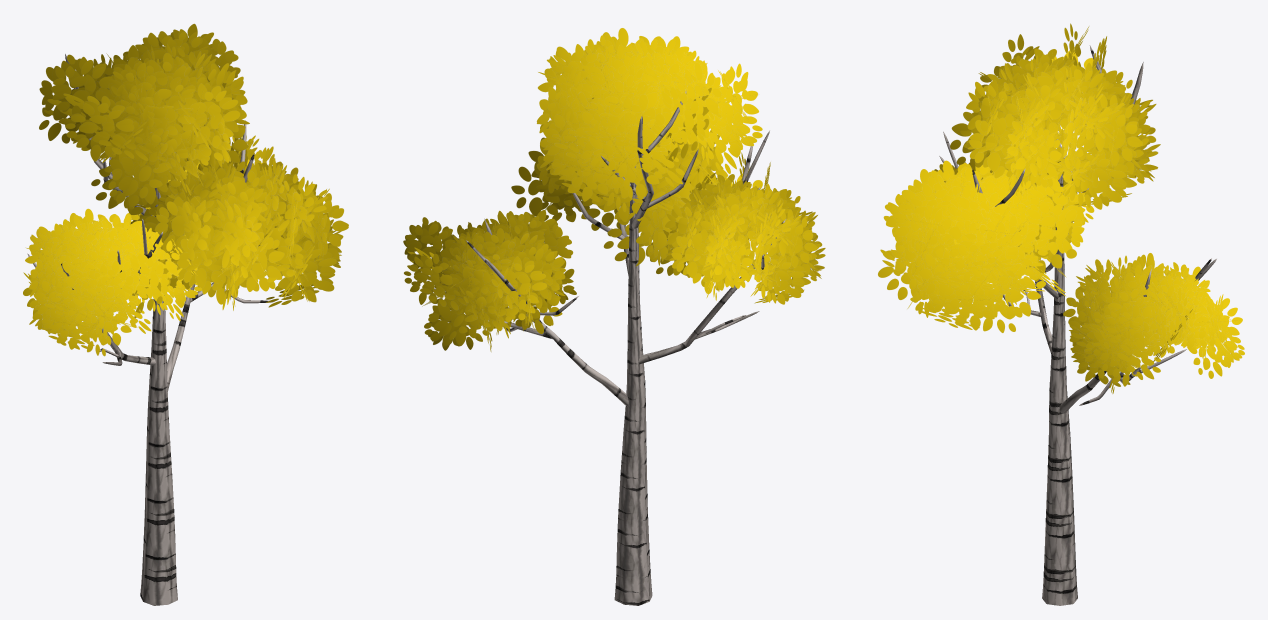
File: BirchTree_5.glb
3 renders of one model, left to right at view 1: azimuth 30°, elevation 25°; view 2: azimuth 150°, elevation 25°; view 3: azimuth 270°, elevation 25°, orthographic. The views are drawn at different scales.
Parts seen in each view (by area): view 1: BirchTree_5; view 2: BirchTree_5; view 3: BirchTree_5.
Boxes of the visible parts, box(x1,y1,x2,y2) form: BirchTree_5: box(23, 23, 348, 605); BirchTree_5: box(403, 28, 825, 605); BirchTree_5: box(878, 23, 1244, 605).
Size of the model in its own units: 3.58 by 5.52 by 3.51.
2 materials, 2 textured.
